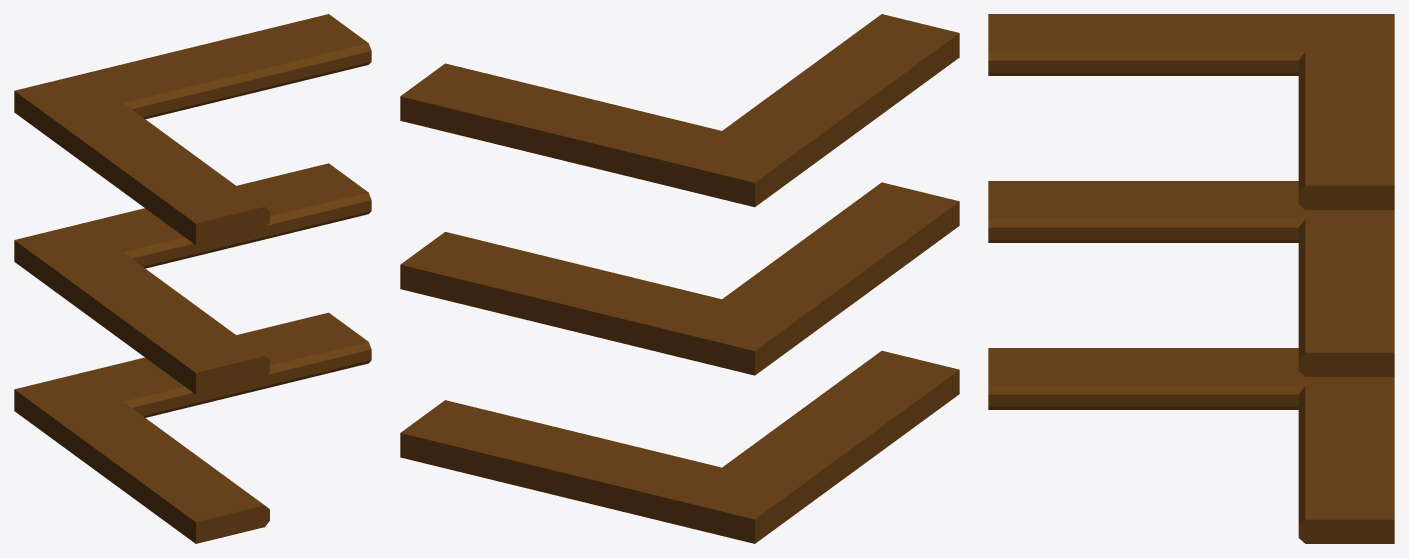
The model's file is SM_Shelves_Corner_Inner.fbx.
3 renders of one model, left to right at view 1: azimuth 30°, elevation 25°; view 2: azimuth 150°, elevation 25°; view 3: azimuth 270°, elevation 25°, orthographic. The views are drawn at different scales.
Visible parts, largest first — view 1: SM_Shelves_Corner_Inner; view 2: SM_Shelves_Corner_Inner; view 3: SM_Shelves_Corner_Inner.
Part boxes in pixels (left/top/right/bottom): SM_Shelves_Corner_Inner: left=14, top=14, right=371, bottom=543; SM_Shelves_Corner_Inner: left=400, top=14, right=959, bottom=543; SM_Shelves_Corner_Inner: left=988, top=14, right=1394, bottom=543.
Bounding box in the file's own units: 100 × 97.31 × 100.
